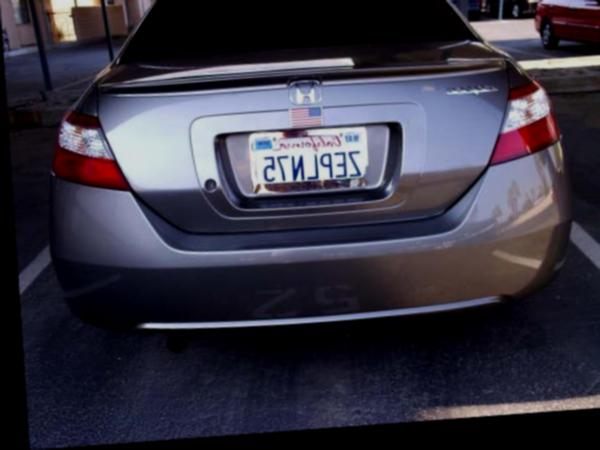License_Plate: (237, 118, 378, 206)
